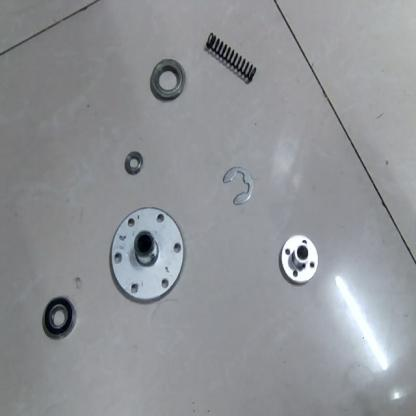FOD: (108, 201, 190, 303), (203, 31, 263, 85), (278, 232, 320, 287), (41, 295, 79, 341), (148, 58, 185, 104), (221, 164, 258, 210), (123, 147, 143, 177)
